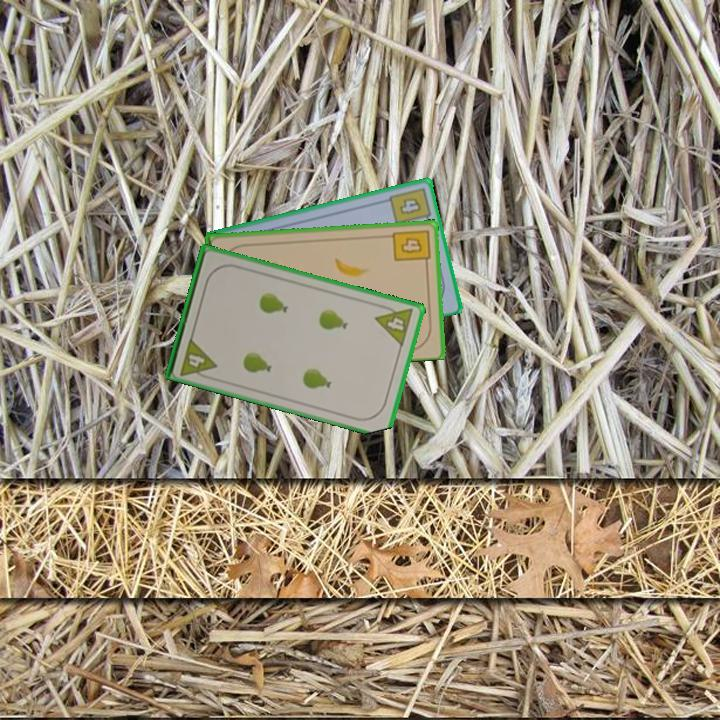4b: (386, 184, 433, 227), (389, 226, 433, 269)
4p: (372, 300, 416, 349), (176, 334, 219, 383)
